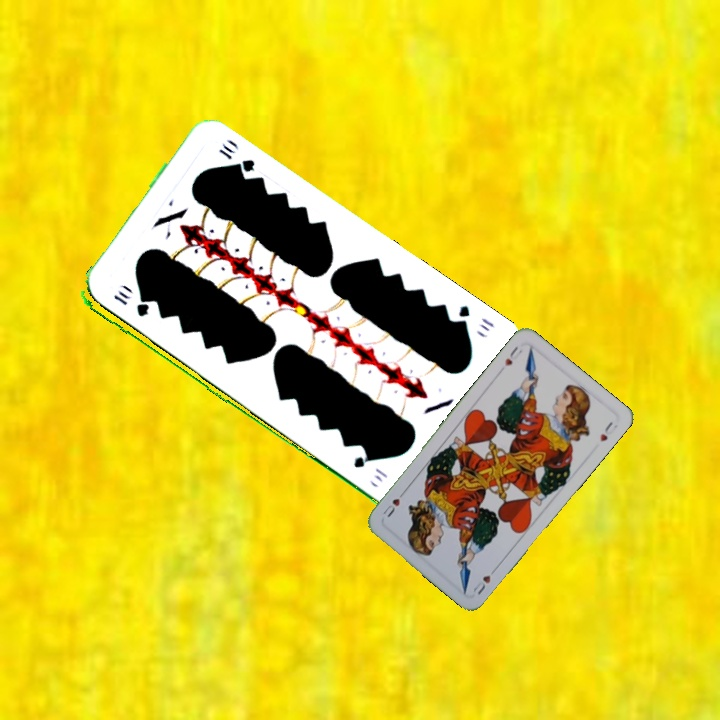G10: (450, 301, 497, 334), (109, 287, 151, 320)
HU: (469, 563, 500, 597), (500, 342, 525, 369)
